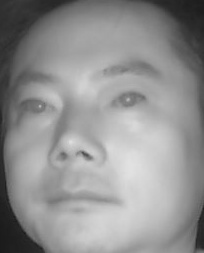eye: (16, 93, 59, 121), (107, 88, 151, 114)
mouth: (42, 176, 122, 219)
